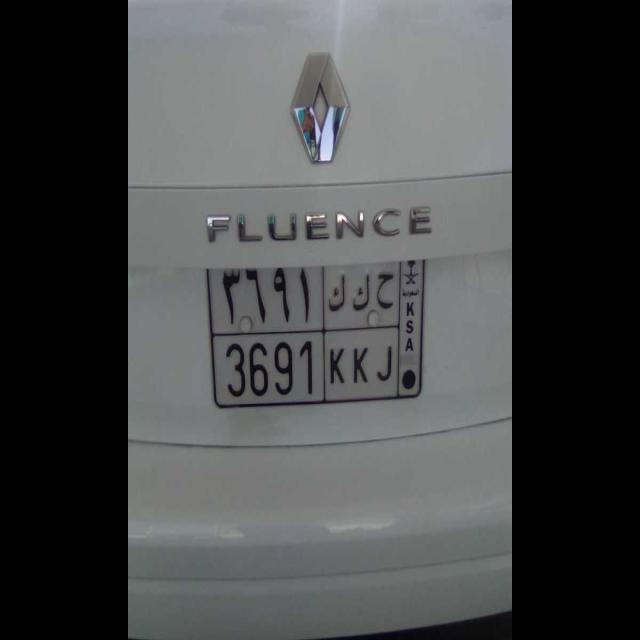license_plate: (210, 330, 400, 416)
